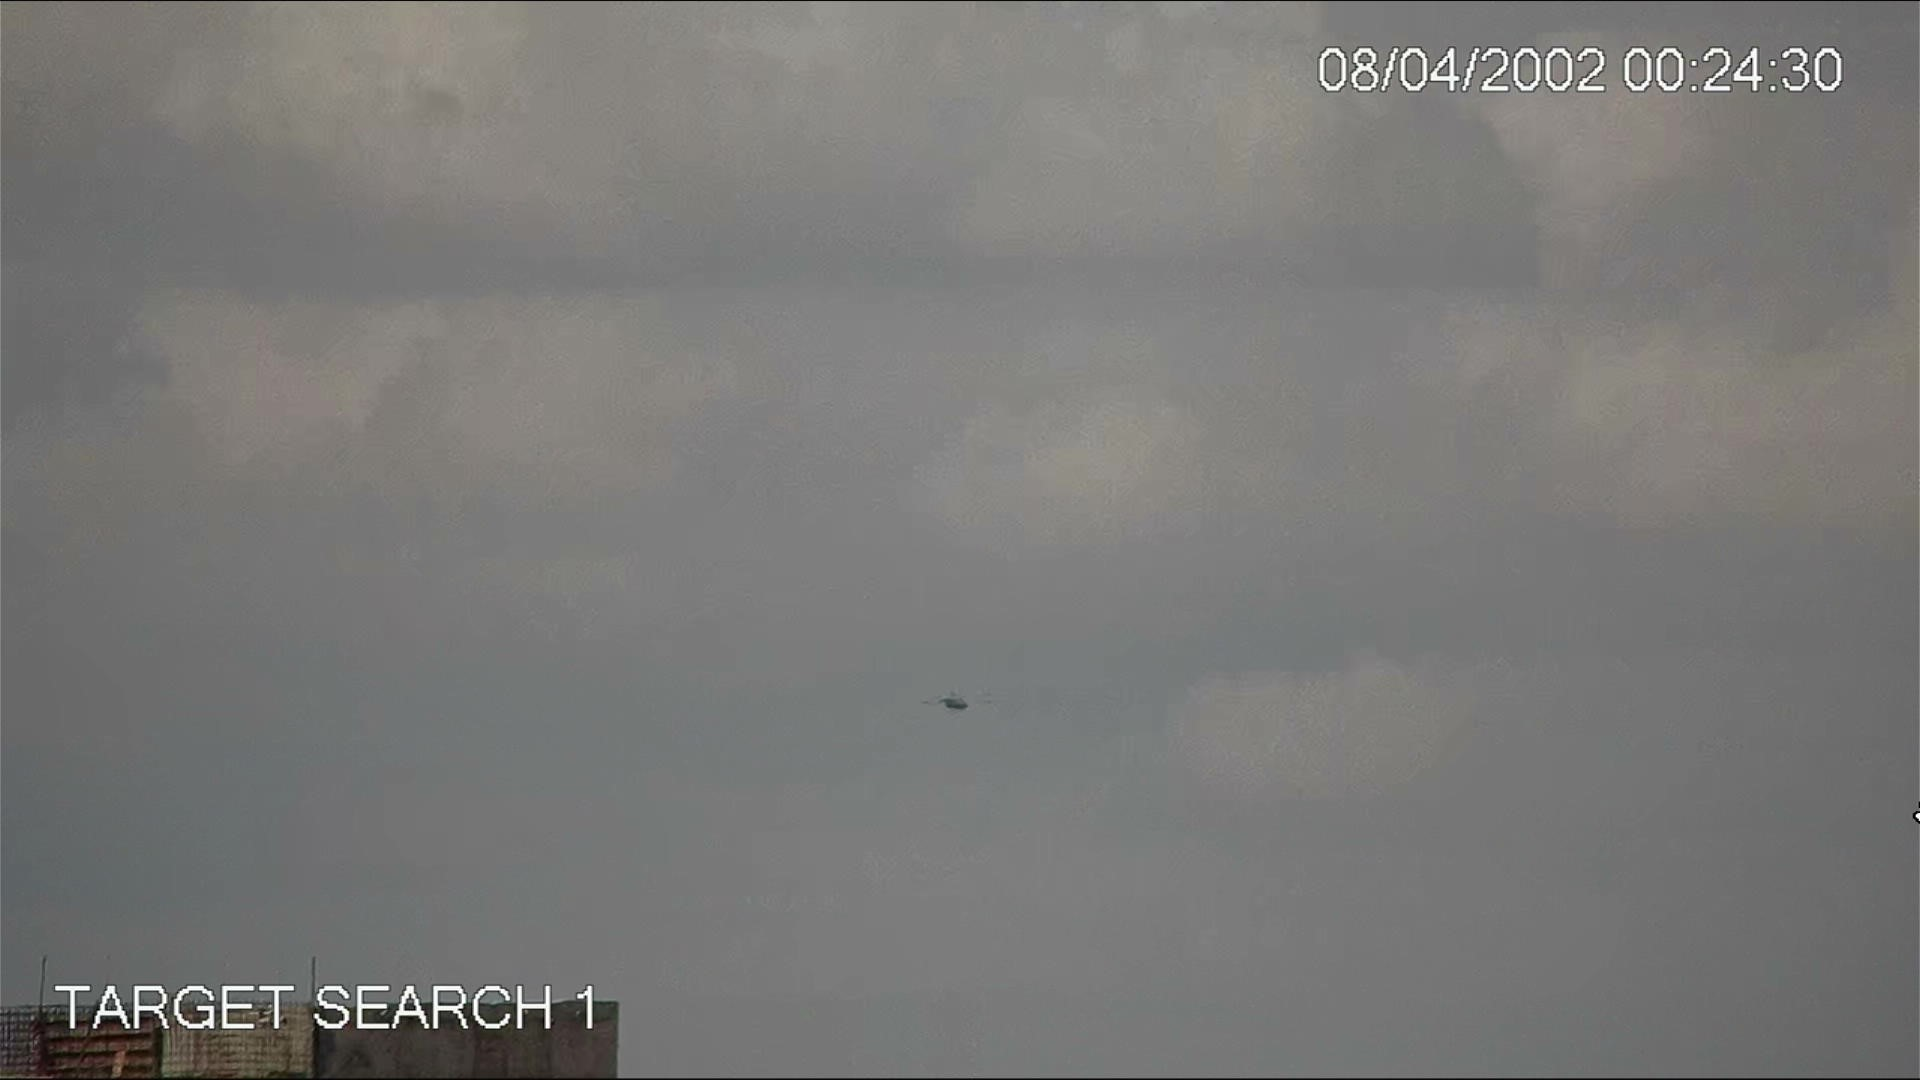SU_30: (916, 684, 971, 717)
